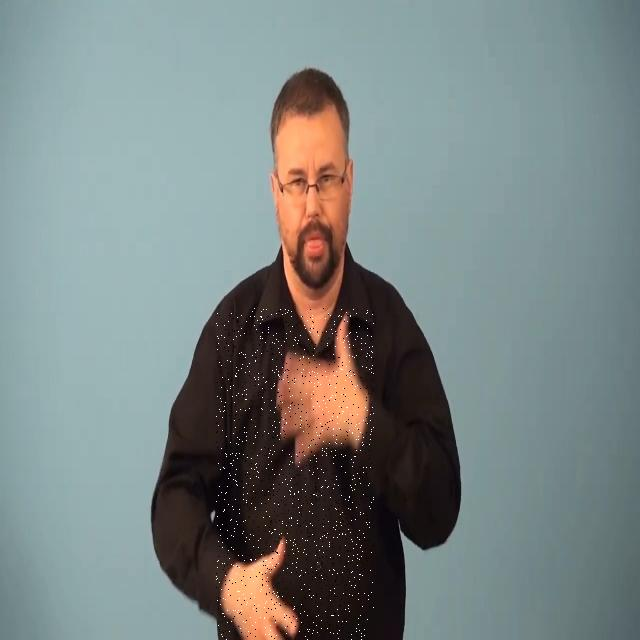juicy: (216, 308, 374, 640)
